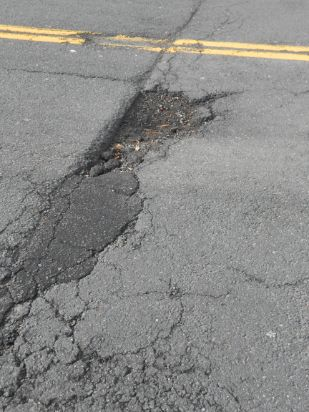pothole: (66, 84, 236, 180)
